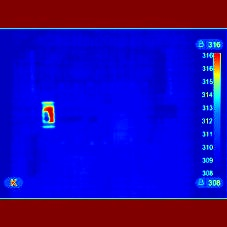Less: (33, 108, 81, 151)
